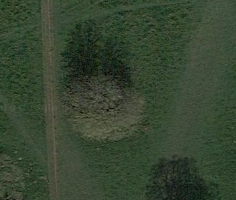tree: (61, 66, 149, 150)
